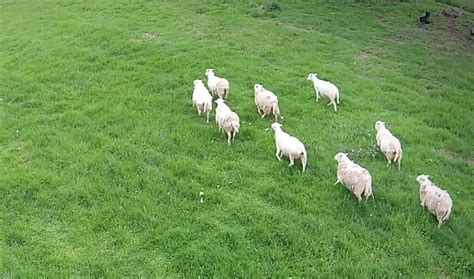sheep: (414, 173, 454, 228), (332, 150, 373, 203), (270, 121, 308, 172), (373, 118, 404, 171), (307, 72, 340, 112), (251, 83, 282, 124), (214, 95, 239, 144), (201, 68, 230, 103), (191, 79, 211, 121)
